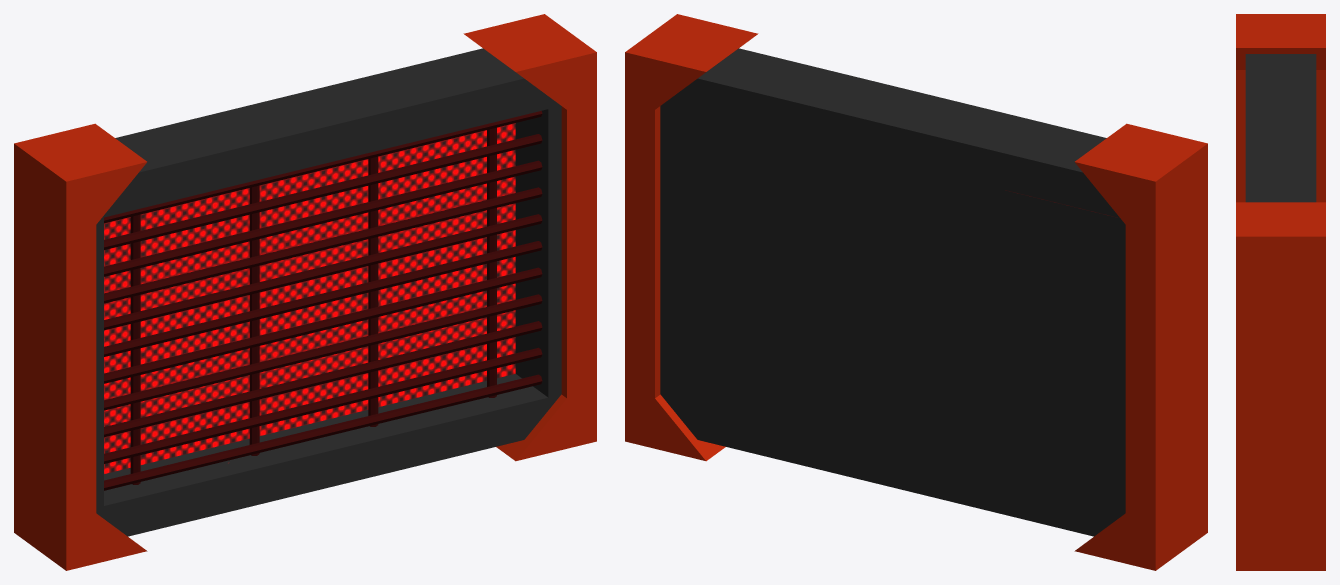
Rendered from heatWall.fbx.
The picture shows the model from 3 angles, left to right: view 1: azimuth 30°, elevation 25°; view 2: azimuth 150°, elevation 25°; view 3: azimuth 270°, elevation 25°; orthographic projection. The views are drawn at different scales.
Visible parts, largest first — view 1: heatWall; view 2: heatWall; view 3: heatWall.
Part boxes in pixels (<box>): heatWall: <box>14,14,596,570</box>; heatWall: <box>625,14,1207,570</box>; heatWall: <box>1236,14,1325,570</box>.
Bounding box in the file's own units: 341 × 239 × 58.2.
